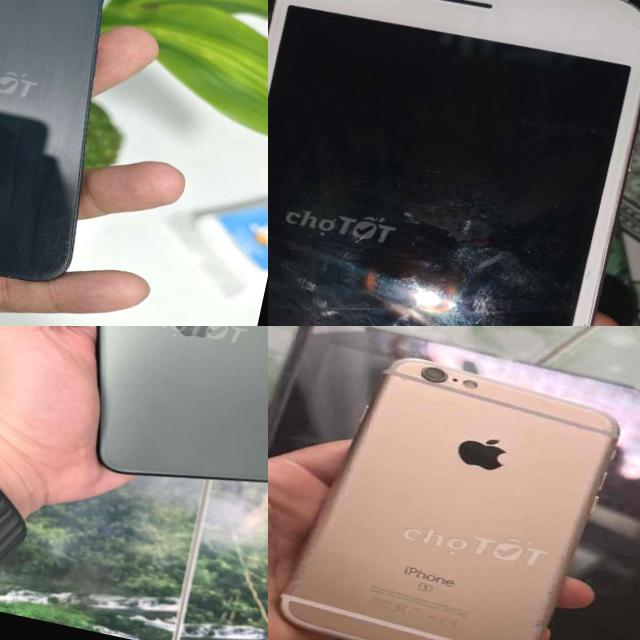gen_11: (35, 326, 268, 517)
gen_12_13: (0, 0, 143, 305)
gen_6: (268, 0, 640, 326), (268, 326, 639, 640)
